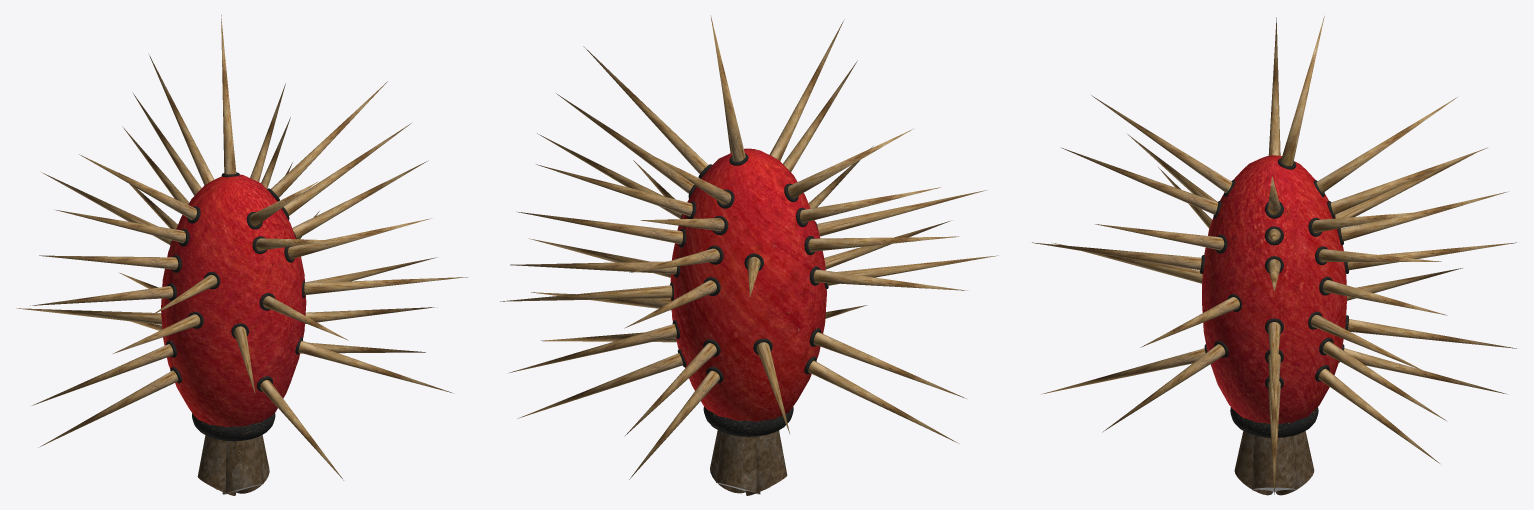
File: SpikePlant.fbx
The picture shows the model from 3 angles, left to right: view 1: azimuth 30°, elevation 25°; view 2: azimuth 150°, elevation 25°; view 3: azimuth 270°, elevation 25°; orthographic projection. The views are drawn at different scales.
Visible parts, largest first — view 1: polySurface86; view 2: polySurface86; view 3: polySurface86.
Part boxes in pixels (x1,y1,x2,y2): polySurface86: [16, 15, 467, 495]; polySurface86: [500, 15, 997, 495]; polySurface86: [1032, 16, 1516, 495].
Bounding box in the file's own units: 7.8 × 8.32 × 7.65.
49 materials, 48 textured.
